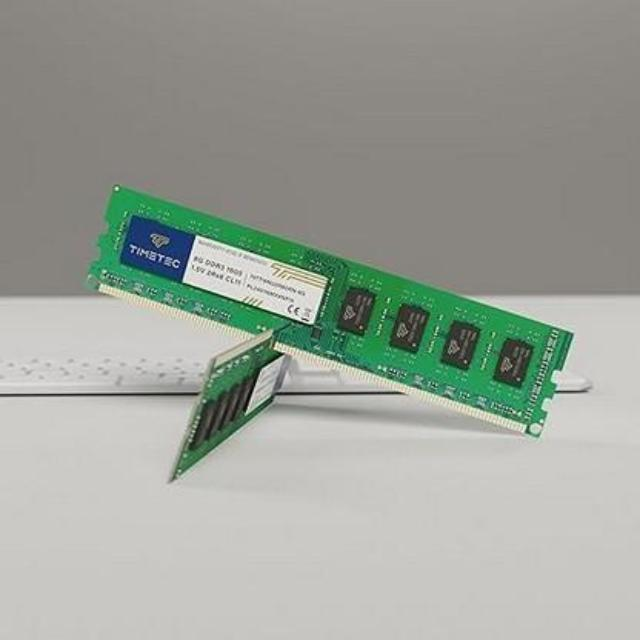RAM: (82, 178, 586, 484)
